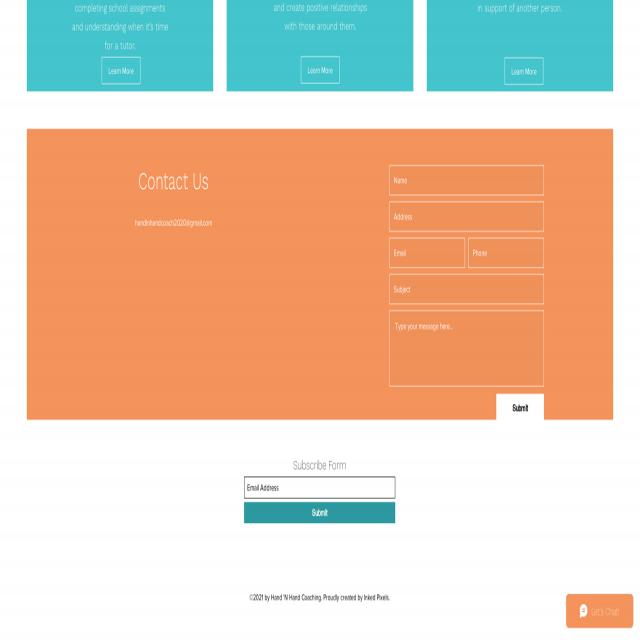button: (244, 502, 396, 523), (566, 594, 633, 629), (496, 393, 544, 422), (301, 56, 339, 84), (102, 57, 140, 84), (505, 58, 543, 84)
field: (390, 312, 544, 386), (389, 165, 544, 196), (389, 201, 544, 232), (389, 274, 544, 304), (244, 477, 396, 498), (468, 238, 544, 268), (389, 238, 465, 268)
